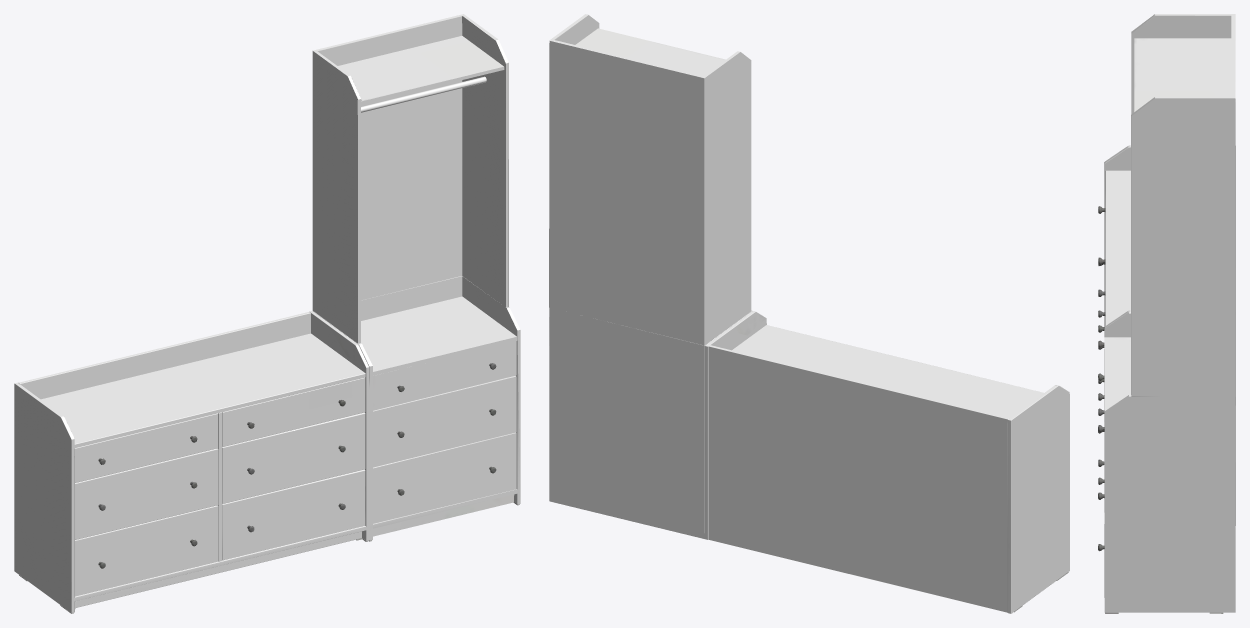
Rendered from hauga_rega_69611649.glb.
3 views of the same model, side by side, from view 1: azimuth 30°, elevation 25°; view 2: azimuth 150°, elevation 25°; view 3: azimuth 270°, elevation 25° (orthographic). The views are drawn at different scales.
Parts seen in each view (by area): view 1: hauga_rega_69611649; view 2: hauga_rega_69611649; view 3: hauga_rega_69611649.
Part boxes in pixels (x1,y1,x2,y2): hauga_rega_69611649: [14, 14, 520, 613]; hauga_rega_69611649: [549, 14, 1069, 613]; hauga_rega_69611649: [1098, 14, 1235, 613].
Bounding box in the file's own units: 2.08 × 1.99 × 0.4817.
Materials: 1 (1 with a texture image).
